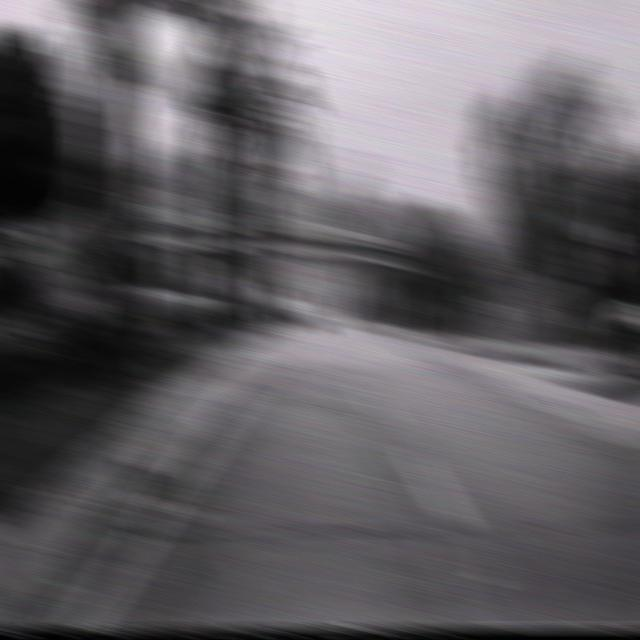stop_sign: (558, 203, 593, 245)
